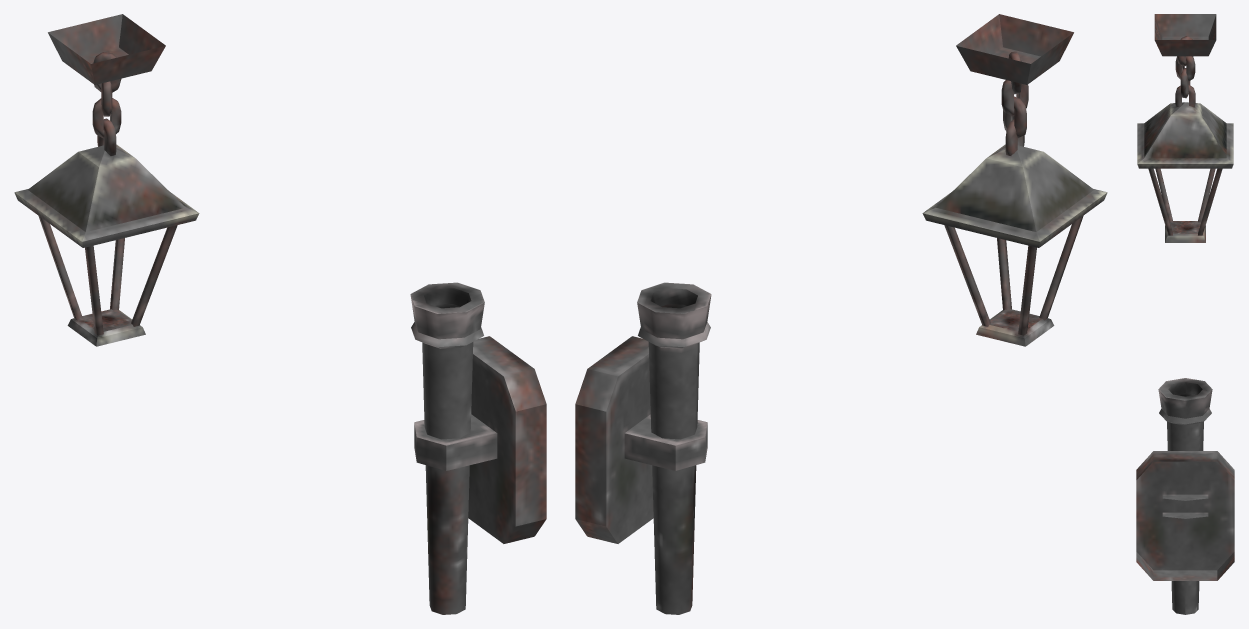
Rendered from light_sourses.fbx.
The picture shows the model from 3 angles, left to right: view 1: azimuth 30°, elevation 25°; view 2: azimuth 150°, elevation 25°; view 3: azimuth 270°, elevation 25°; orthographic projection. The views are drawn at different scales.
Parts seen in each view (by area): view 1: torch_wall, lantern; view 2: torch_wall, lantern; view 3: torch_wall, lantern.
Boxes of the visible parts, x1,y1,x2,y2 form: torch_wall: (410, 282, 546, 614); lantern: (14, 14, 199, 346); torch_wall: (575, 282, 711, 614); lantern: (922, 14, 1107, 346); torch_wall: (1136, 378, 1234, 614); lantern: (1137, 14, 1233, 242).
Size of the model in its own units: 151 by 202 by 38.73.
